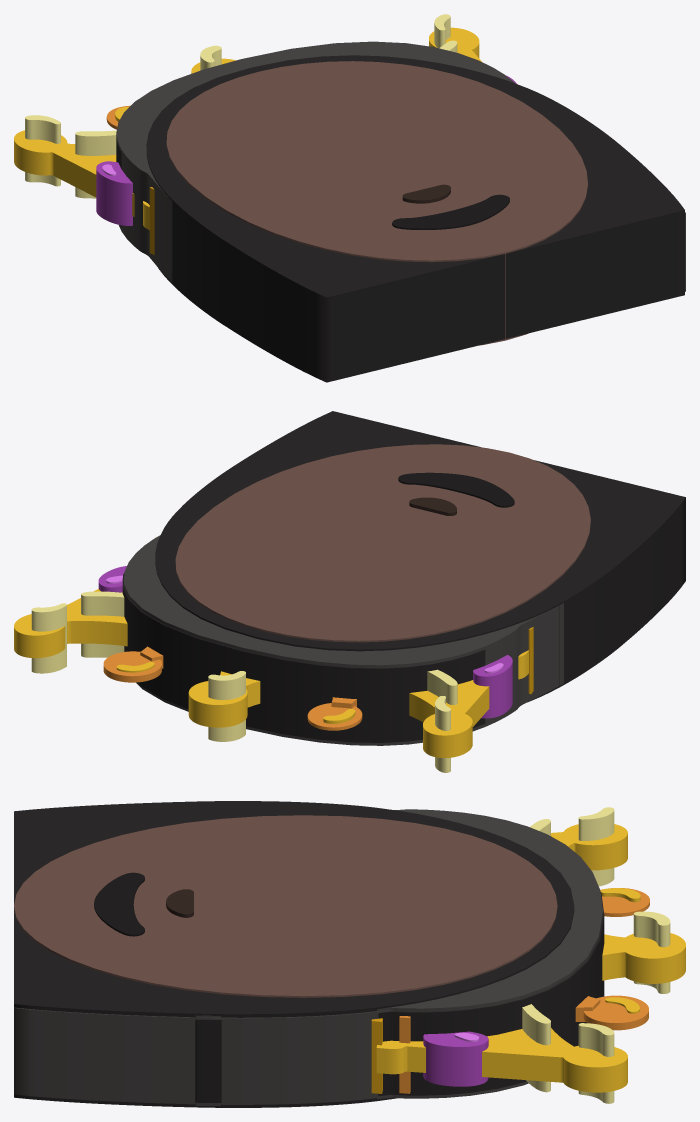
Rendered from emoji_u1f478_1f3ff.glb.
3 renders of one model, top to bottom at view 1: azimuth 30°, elevation 25°; view 2: azimuth 150°, elevation 25°; view 3: azimuth 270°, elevation 25°, orthographic. The views are drawn at different scales.
Parts seen in each view (by area): view 1: emoji_u1f478_1f3ff; view 2: emoji_u1f478_1f3ff; view 3: emoji_u1f478_1f3ff.
Part boxes in pixels (x1=…): emoji_u1f478_1f3ff: x1=14, y1=14, x2=685, y2=382; emoji_u1f478_1f3ff: x1=14, y1=411, x2=685, y2=772; emoji_u1f478_1f3ff: x1=14, y1=801, x2=685, y2=1107.
Size of the model in its own units: 0.0292 by 0.0058 by 0.0338.
